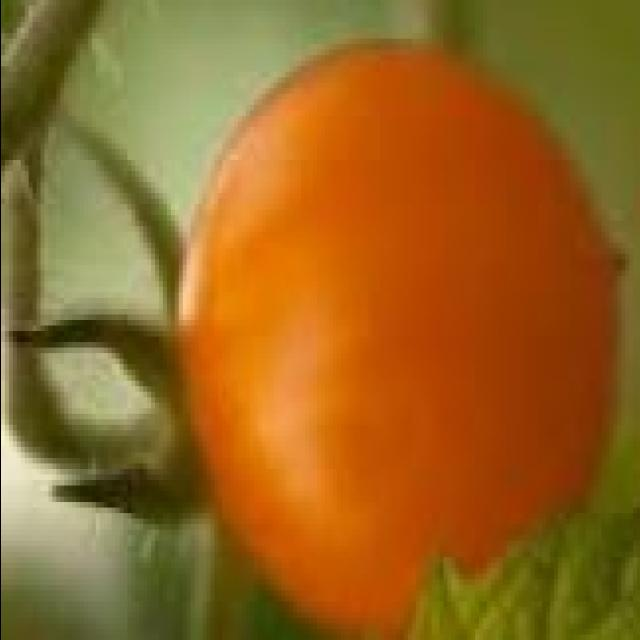Healthy: (134, 0, 620, 640)
